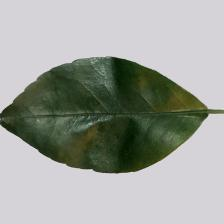healthy: (2, 55, 210, 174)
